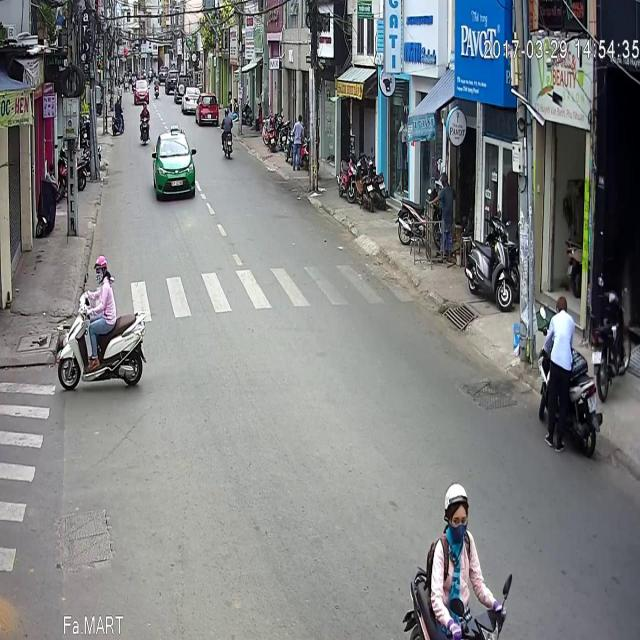car: (153, 66, 195, 140), (196, 34, 219, 69)
motorcycle: (402, 428, 508, 609), (53, 196, 152, 337), (536, 238, 600, 395), (221, 48, 233, 102), (140, 43, 150, 87)
